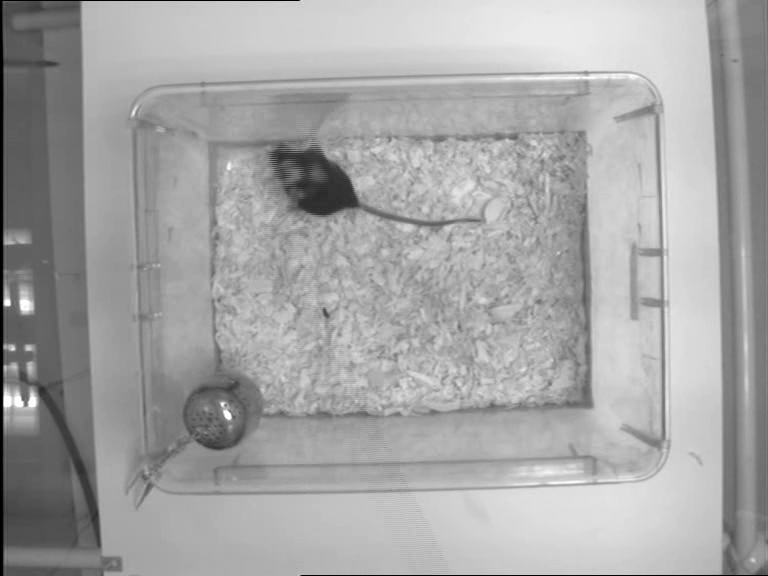mice: (271, 143, 482, 229)
